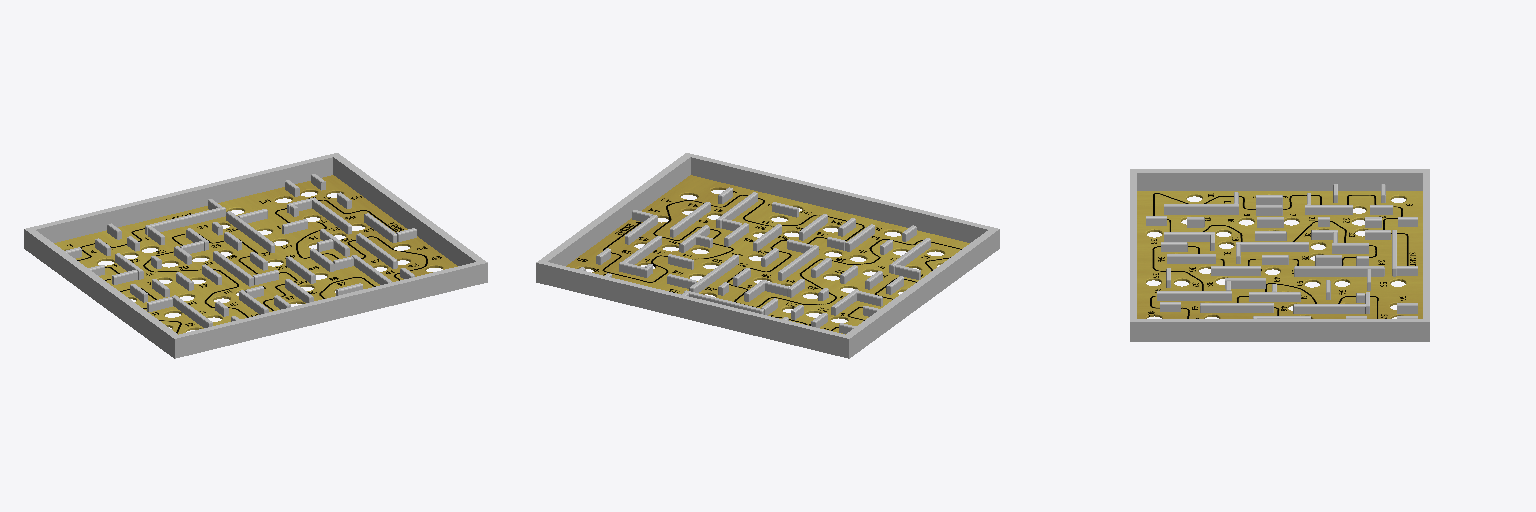
3 views of the same model, side by side, from view 1: azimuth 30°, elevation 25°; view 2: azimuth 150°, elevation 25°; view 3: azimuth 270°, elevation 25° (orthographic).
Parts seen in each view (by area): view 1: tilt_inner; view 2: tilt_inner; view 3: tilt_inner.
Part boxes in pixels (x1,y1,x2,y2): tilt_inner: (24, 153, 487, 358); tilt_inner: (536, 153, 999, 358); tilt_inner: (1130, 169, 1429, 341).
Bounding box in the file's own units: 1.49 × 0.0923 × 1.24.
2 materials, 1 textured.